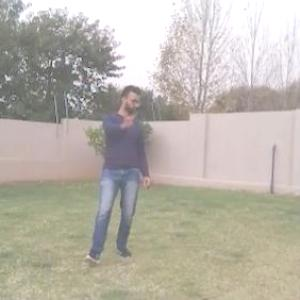takeoff-hand: (116, 107, 139, 132)
